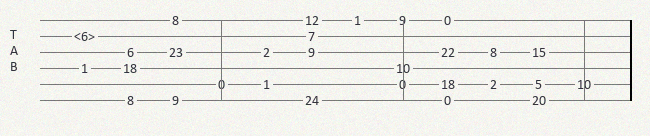0: (218, 78, 229, 91), (399, 78, 410, 91), (444, 14, 455, 27), (444, 94, 455, 107)
1: (81, 62, 92, 75), (263, 78, 274, 91), (354, 14, 365, 27)
10: (396, 62, 414, 75), (577, 78, 595, 91)
12: (305, 14, 323, 27)
15: (532, 46, 550, 59)
18: (123, 62, 141, 75), (441, 78, 459, 91)
2: (263, 46, 274, 59), (490, 78, 501, 91)
20: (532, 94, 550, 107)
22: (441, 46, 459, 59)
23: (169, 46, 187, 59)
24: (305, 94, 323, 107)
5: (535, 78, 546, 91)
6: (127, 46, 138, 59)
7: (308, 30, 319, 43)
8: (127, 94, 138, 107), (172, 14, 183, 27), (490, 46, 501, 59)
9: (172, 94, 183, 107), (308, 46, 319, 59), (399, 14, 410, 27)
harmonic: (74, 30, 99, 43)
